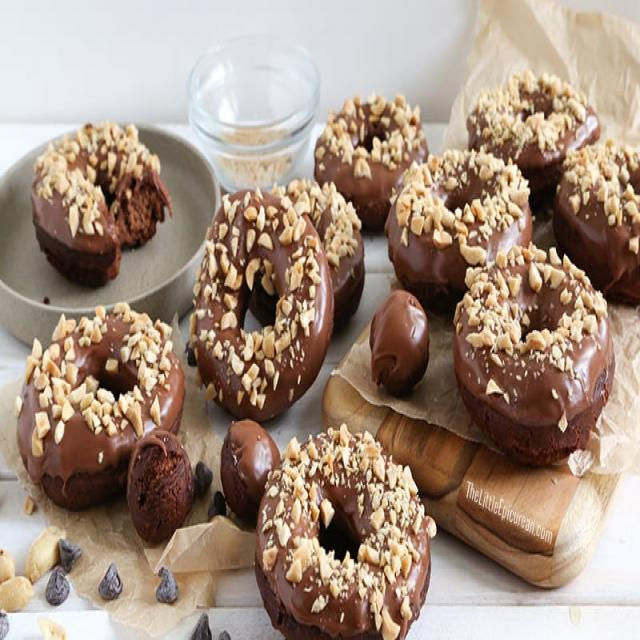donut: (253, 426, 433, 640), (15, 308, 185, 517), (452, 246, 618, 458), (190, 188, 335, 422), (30, 120, 170, 290), (386, 145, 535, 300), (466, 66, 602, 196), (313, 95, 429, 227), (559, 138, 640, 304)
